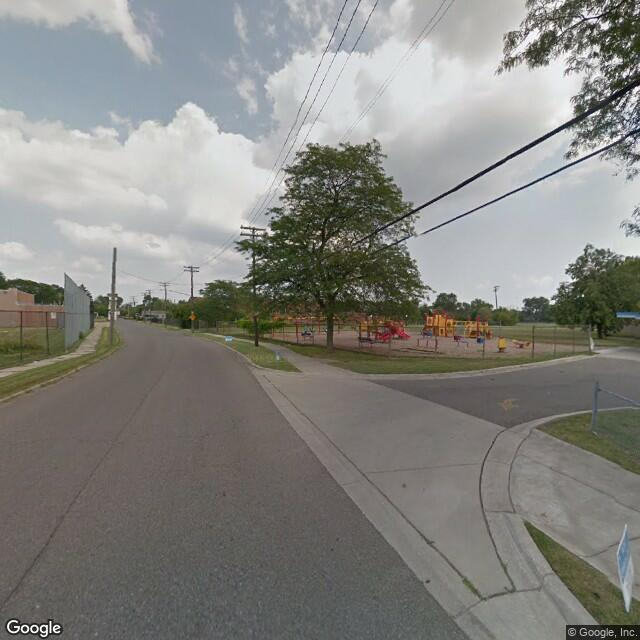litter: (225, 335, 233, 342), (32, 358, 38, 364), (276, 353, 279, 360)
